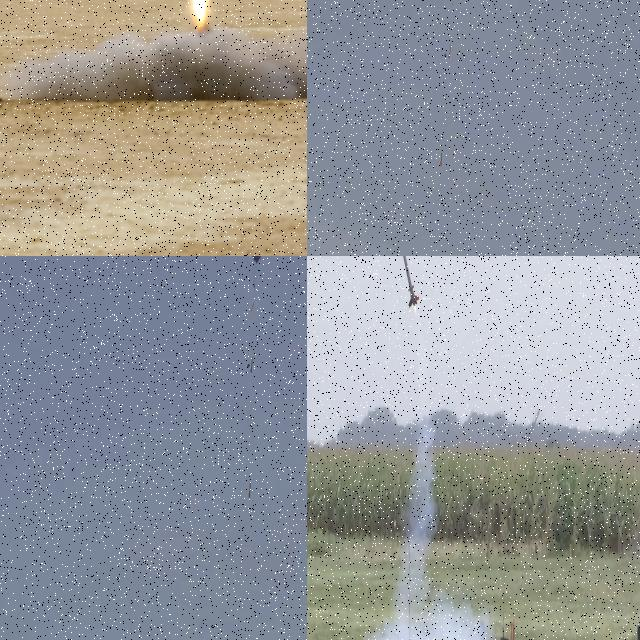Rocket: (395, 256, 420, 306), (440, 153, 443, 167), (249, 482, 251, 498)
